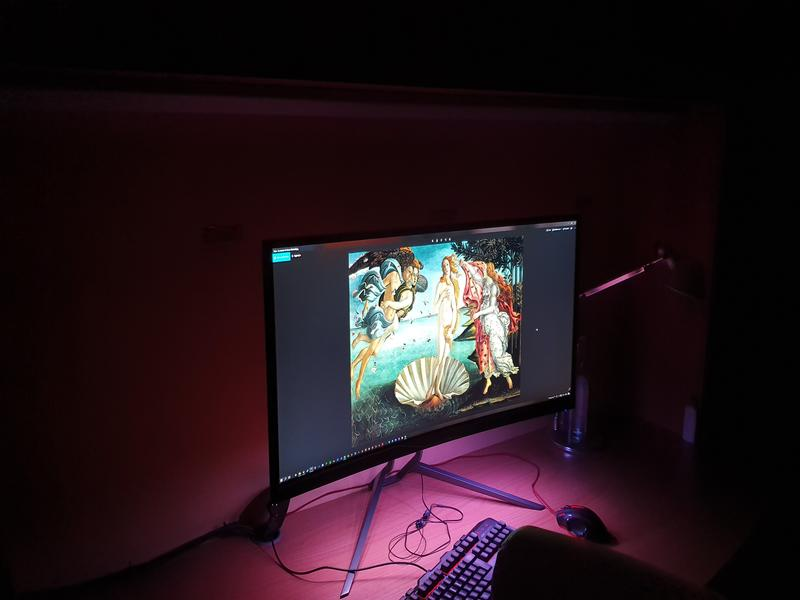Venere: (346, 235, 521, 449)
